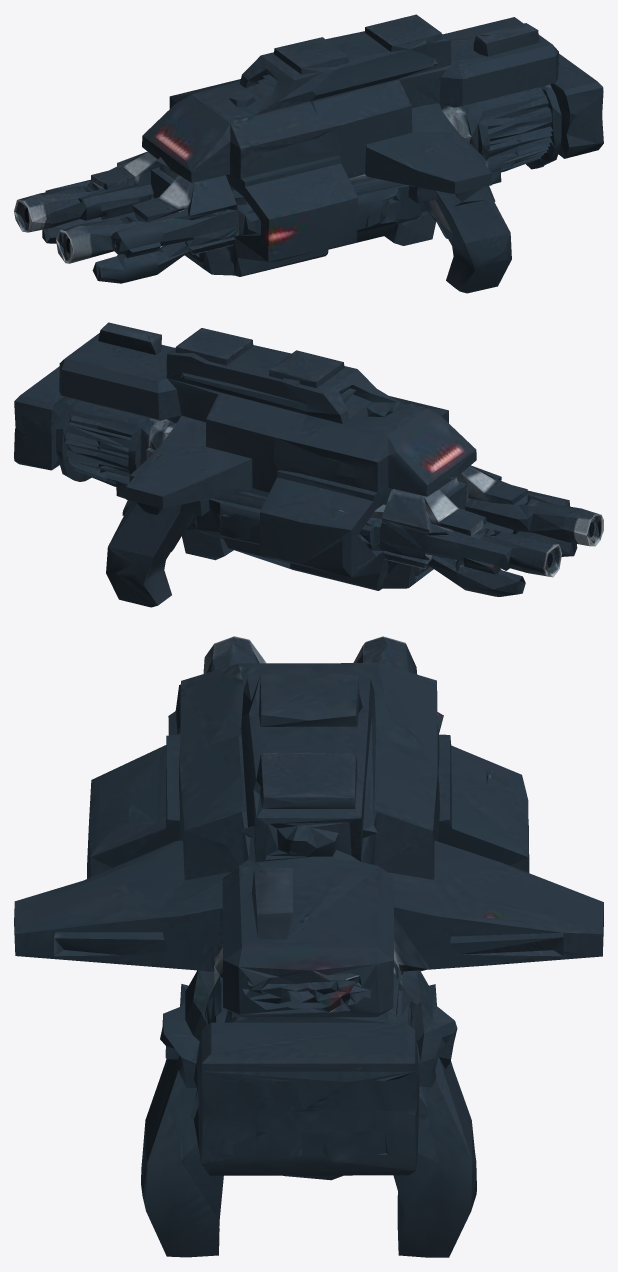
Rendered from gunship.glb.
3 views of the same model, one above another, from view 1: azimuth 30°, elevation 25°; view 2: azimuth 150°, elevation 25°; view 3: azimuth 270°, elevation 25° (orthographic). The views are drawn at different scales.
Size of the model in its own units: 1.9 by 0.8238 by 1.01.
1 material, 1 textured.
